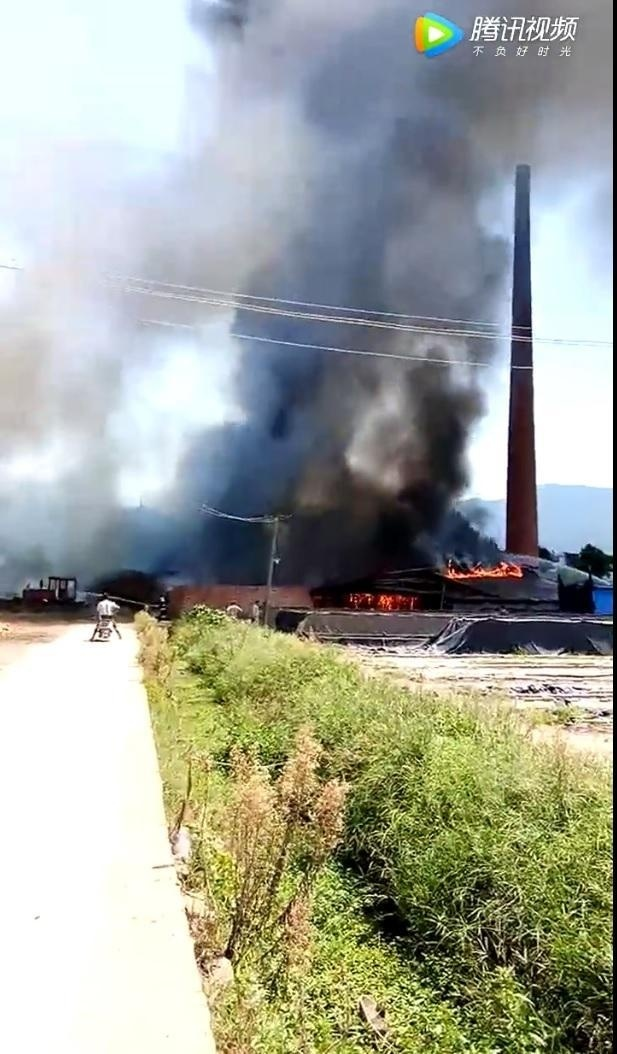fire: (440, 552, 525, 584)
